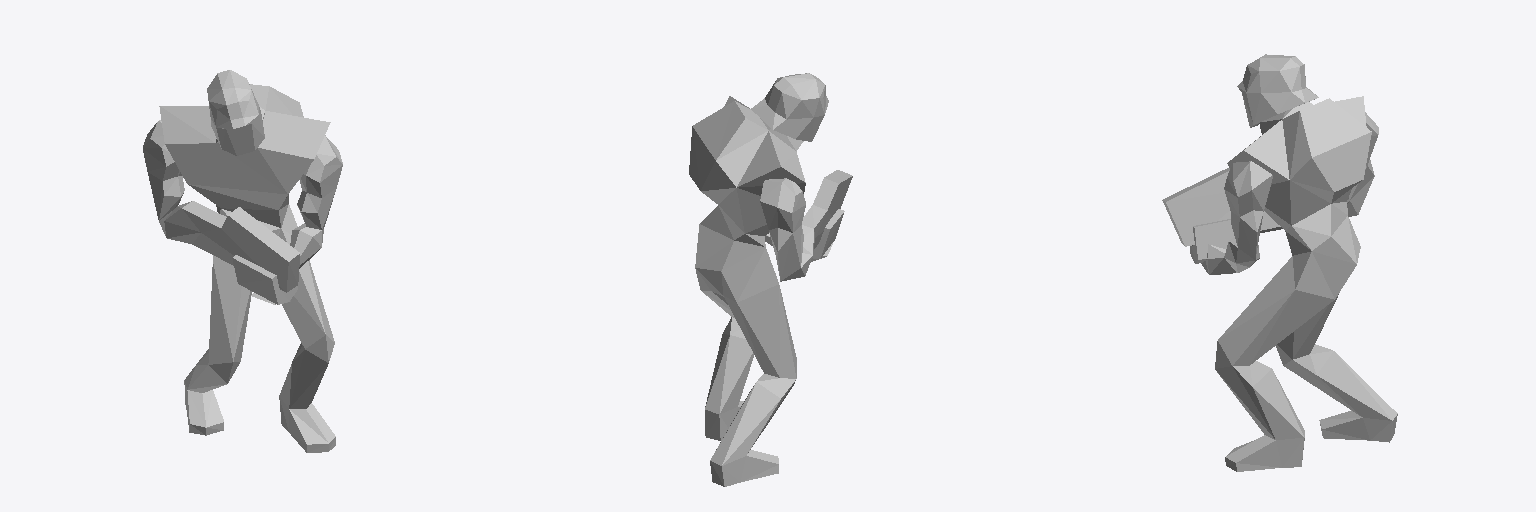
The model's file is Light Guardian.obj.
3 views of the same model, side by side, from view 1: azimuth 30°, elevation 25°; view 2: azimuth 150°, elevation 25°; view 3: azimuth 270°, elevation 25° (orthographic).
Visible parts, largest first — view 1: Light_Guardian; view 2: Light_Guardian; view 3: Light_Guardian.
Boxes of the visible parts, <box> form: Light_Guardian: <box>143,70,342,452</box>; Light_Guardian: <box>689,73,852,486</box>; Light_Guardian: <box>1162,54,1397,471</box>.
Size of the model in its own units: 20.76 by 54.03 by 30.78.